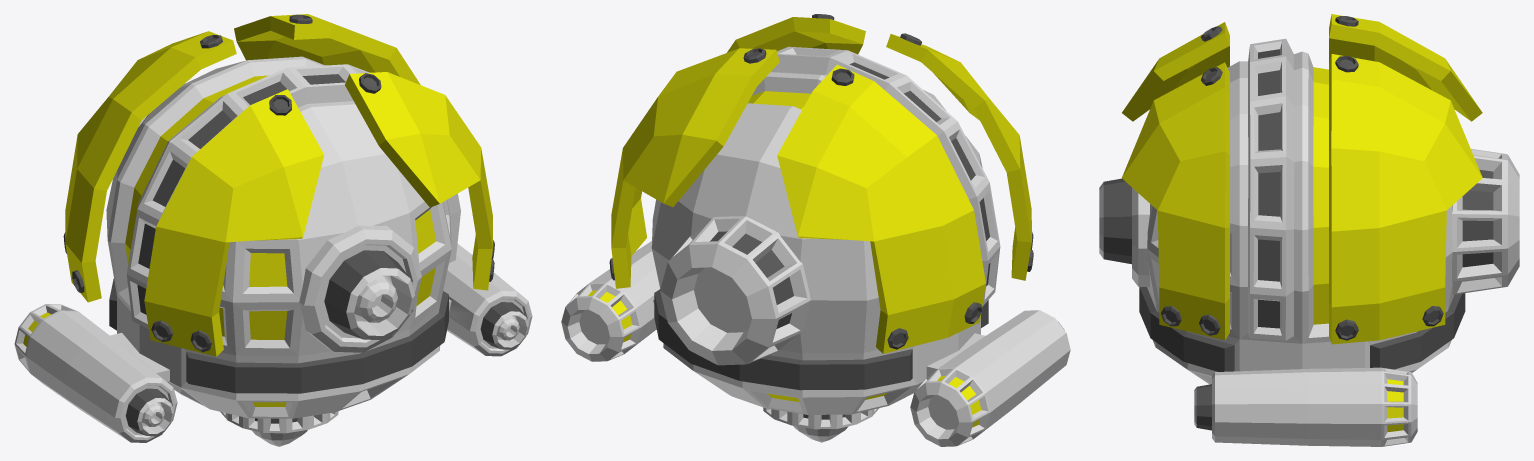
File: tower5_3.fbx
3 renders of one model, left to right at view 1: azimuth 30°, elevation 25°; view 2: azimuth 150°, elevation 25°; view 3: azimuth 270°, elevation 25°, orthographic. The views are drawn at different scales.
Visible parts, largest first — view 1: polySurface126; view 2: polySurface126; view 3: polySurface126.
Boxes of the visible parts, left/top/right/bottom form: polySurface126: left=14, top=14, right=532, bottom=446; polySurface126: left=561, top=14, right=1070, bottom=446; polySurface126: left=1099, top=14, right=1519, bottom=446.
Size of the model in its own units: 0.8301 by 0.7538 by 0.7275.
